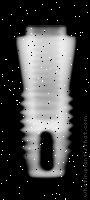Nobel Biocare: (15, 26, 77, 180)
